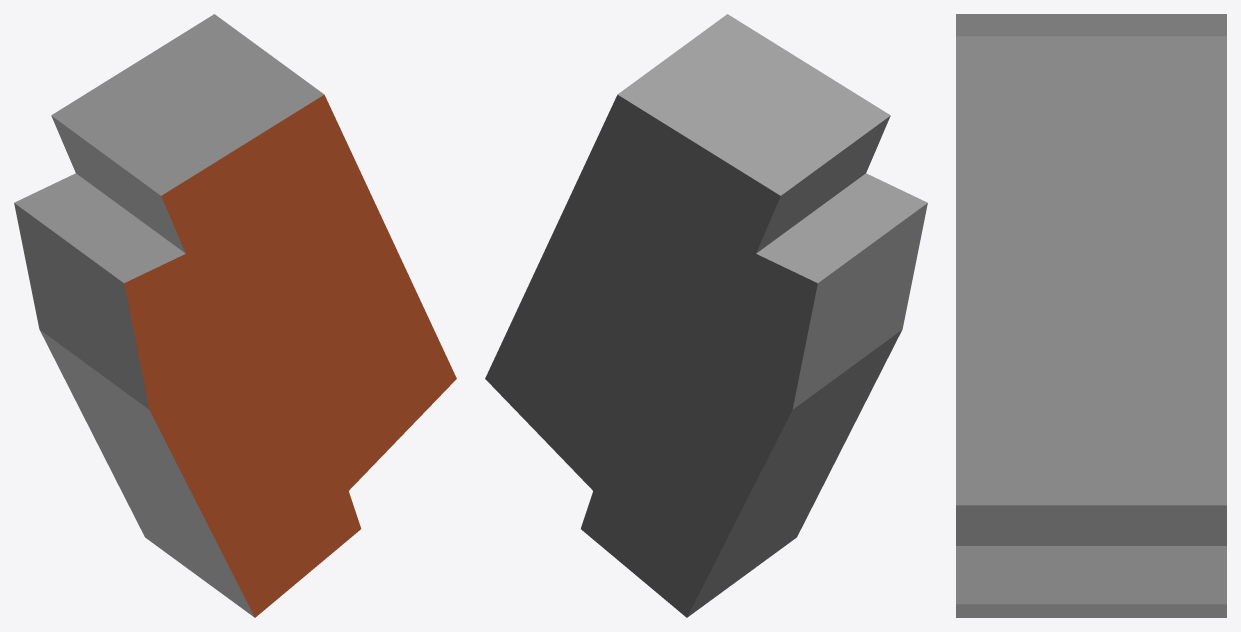
File: construction_2311_assumed_A_Casa_h6m.obj
3 views of the same model, side by side, from view 1: azimuth 30°, elevation 25°; view 2: azimuth 150°, elevation 25°; view 3: azimuth 270°, elevation 25° (orthographic). The views are drawn at different scales.
Parts seen in each view (by area): view 1: construction_2311_assumed_A_Casa; view 2: construction_2311_assumed_A_Casa; view 3: construction_2311_assumed_A_Casa.
Part boxes in pixels (box(x1,y1,x2,y2)): construction_2311_assumed_A_Casa: box(14, 14, 456, 617); construction_2311_assumed_A_Casa: box(485, 14, 927, 617); construction_2311_assumed_A_Casa: box(956, 14, 1226, 617).
Size of the model in its own units: 10.48 by 15.24 by 6.
